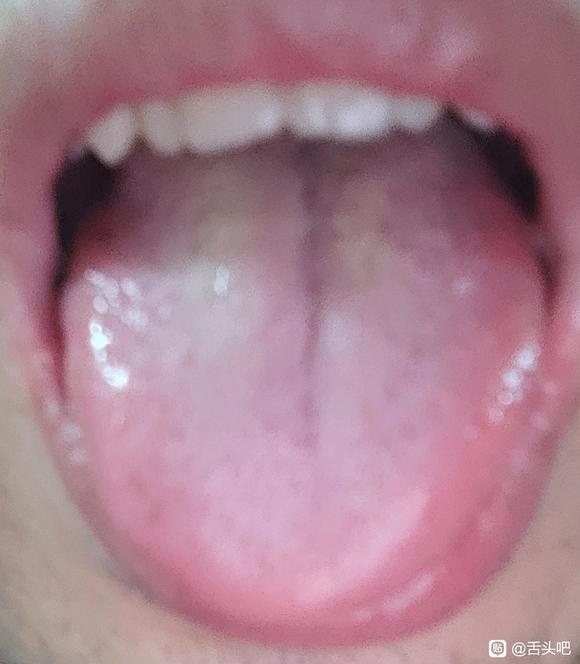baitaishe: (62, 130, 541, 618)
huangtaishe: (62, 130, 541, 618)
liewenshe: (282, 145, 325, 456)
